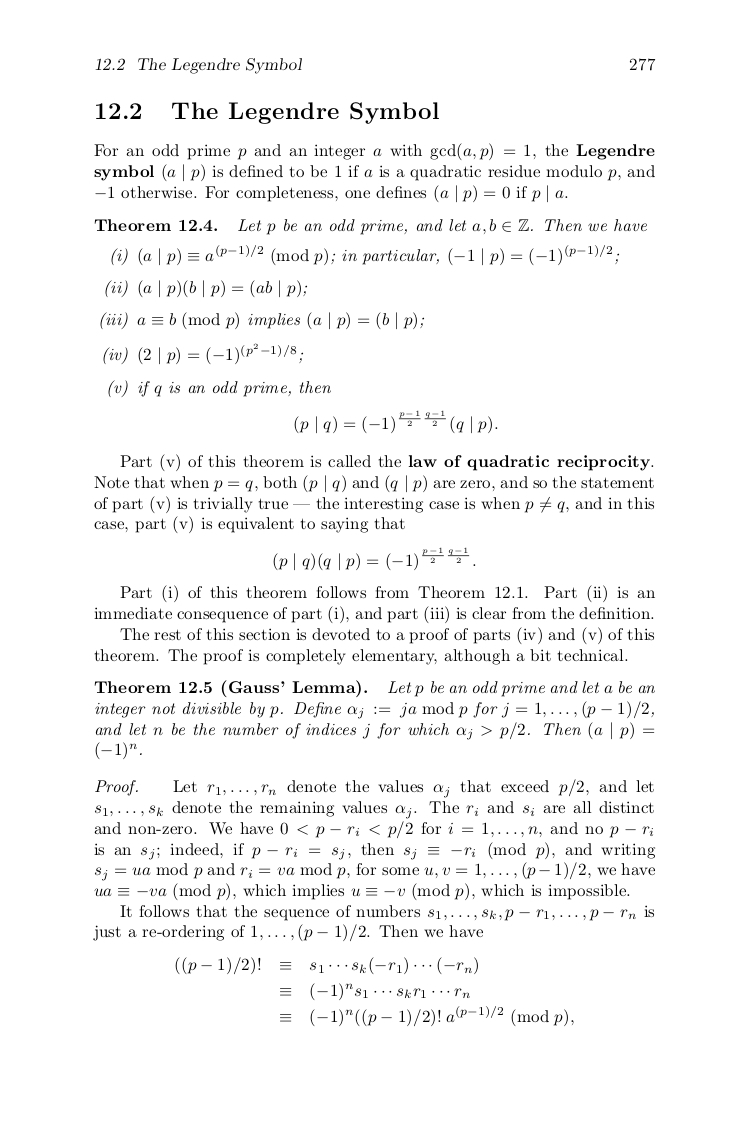formula: (280, 1005, 573, 1027), (175, 956, 477, 975), (294, 409, 497, 434), (273, 546, 475, 571), (103, 342, 303, 365), (105, 279, 307, 298), (280, 982, 469, 1001)
